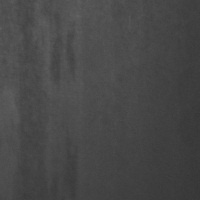inclusion: (8, 2, 52, 197), (42, 5, 81, 97), (58, 127, 82, 197)
